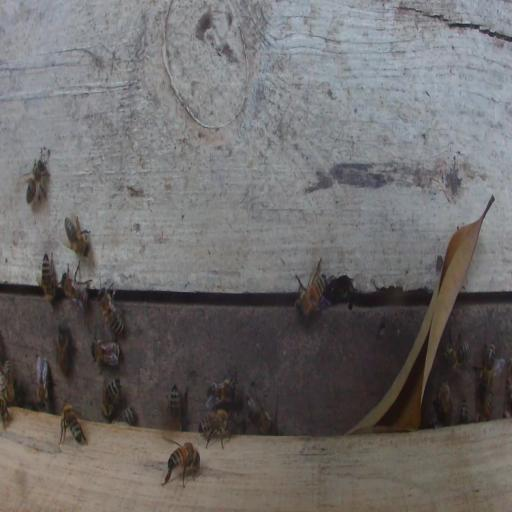bee: (294, 258, 328, 318), (19, 148, 51, 206), (163, 440, 201, 488), (60, 261, 91, 311), (96, 282, 124, 335), (198, 409, 234, 449), (246, 387, 273, 434), (59, 403, 87, 445), (64, 215, 91, 257), (475, 342, 496, 390), (206, 374, 238, 404), (39, 251, 57, 303), (91, 340, 121, 368), (56, 322, 71, 378), (101, 377, 120, 419), (36, 355, 50, 411), (442, 341, 468, 371), (0, 358, 14, 412), (168, 383, 182, 430), (476, 390, 494, 422), (436, 380, 451, 416), (113, 406, 137, 426), (459, 400, 469, 424)
